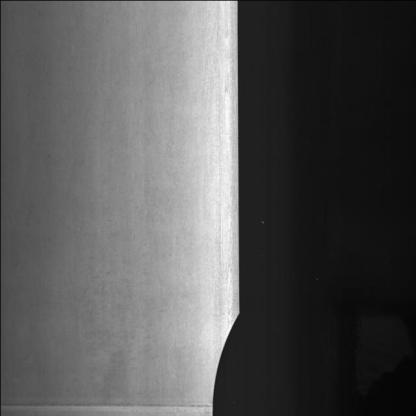crescent_gap: (204, 305, 246, 415)
welding_line: (0, 390, 214, 414)
